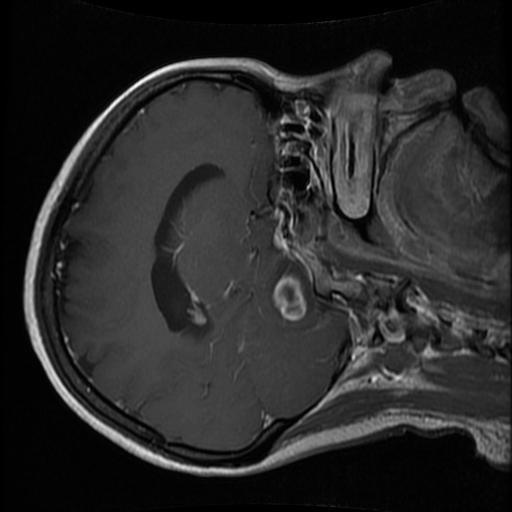glioma: (274, 274, 308, 319)
